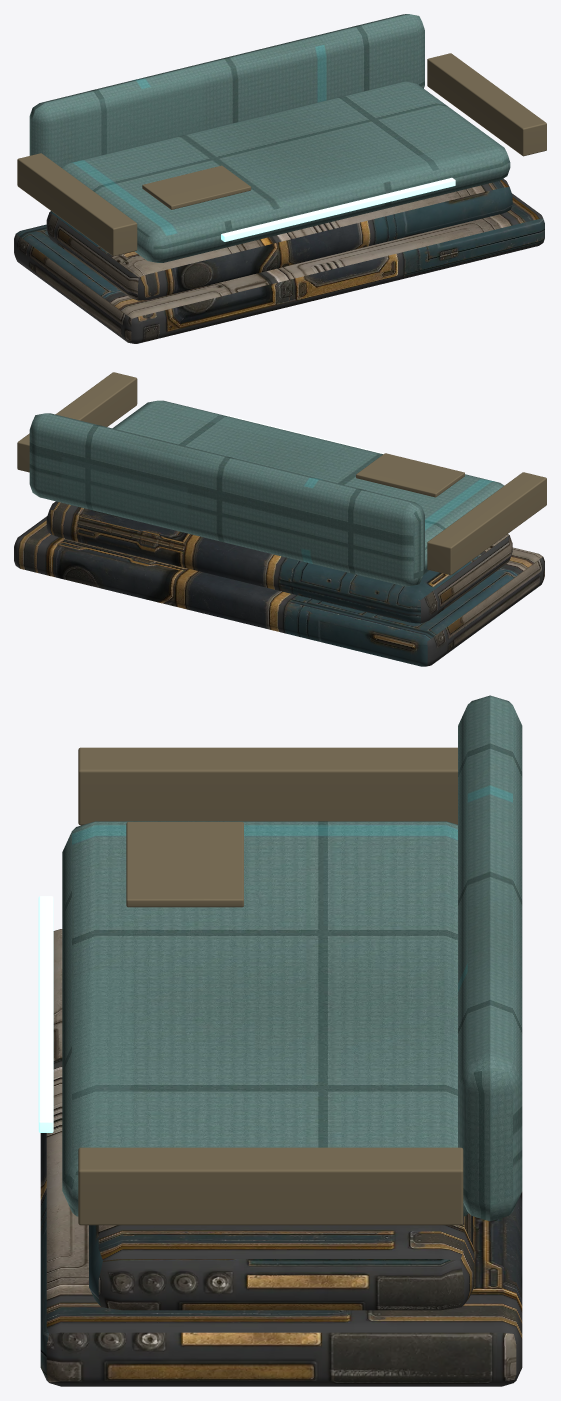
The model's file is hp_room_residential_recovery_bed.glb.
3 views of the same model, one above another, from view 1: azimuth 30°, elevation 25°; view 2: azimuth 150°, elevation 25°; view 3: azimuth 270°, elevation 25° (orthographic). The views are drawn at different scales.
Visible parts, largest first — view 1: muted_recovery_mattress, clinical_bed_ground_shadow, low_service_base, blank_family_card_tray, bed_cyan_life_strip; view 2: muted_recovery_mattress, clinical_bed_ground_shadow, low_service_base, blank_family_card_tray; view 3: muted_recovery_mattress, blank_family_card_tray, clinical_bed_ground_shadow, low_service_base, bed_cyan_life_strip.
Boxes of the visible parts, left/top/right/bottom form: muted_recovery_mattress: left=29, top=14, right=510, bottom=262; clinical_bed_ground_shadow: left=14, top=193, right=544, bottom=343; low_service_base: left=46, top=178, right=512, bottom=300; blank_family_card_tray: left=17, top=53, right=546, bottom=256; bed_cyan_life_strip: left=221, top=177, right=455, bottom=241; muted_recovery_mattress: left=29, top=400, right=504, bottom=586; clinical_bed_ground_shadow: left=14, top=516, right=544, bottom=666; low_service_base: left=46, top=501, right=512, bottom=623; blank_family_card_tray: left=17, top=372, right=546, bottom=575; muted_recovery_mattress: left=62, top=695, right=522, bottom=1221; blank_family_card_tray: left=78, top=747, right=463, bottom=1225; clinical_bed_ground_shadow: left=40, top=929, right=522, bottom=1386; low_service_base: left=89, top=1213, right=474, bottom=1310; bed_cyan_life_strip: left=38, top=896, right=53, bottom=1132.
Size of the model in its own units: 2.26 by 0.7835 by 1.09.
5 materials, 3 textured.
